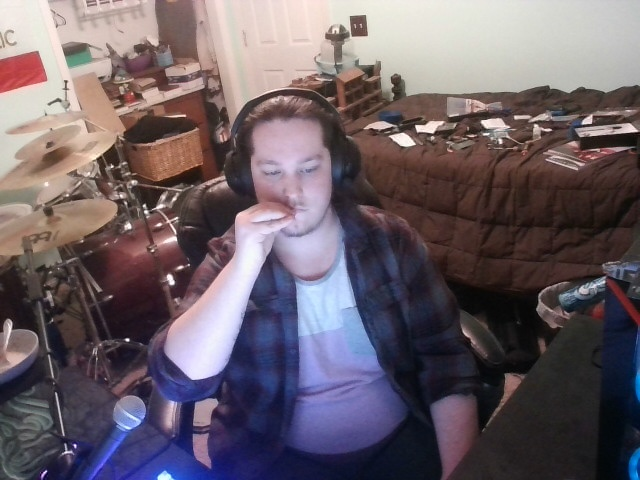eat: (224, 190, 304, 269)
